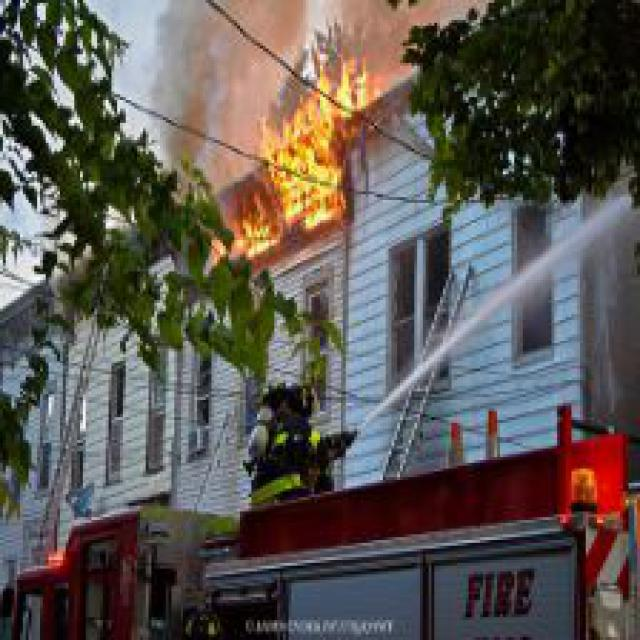fire: (252, 54, 374, 249)
